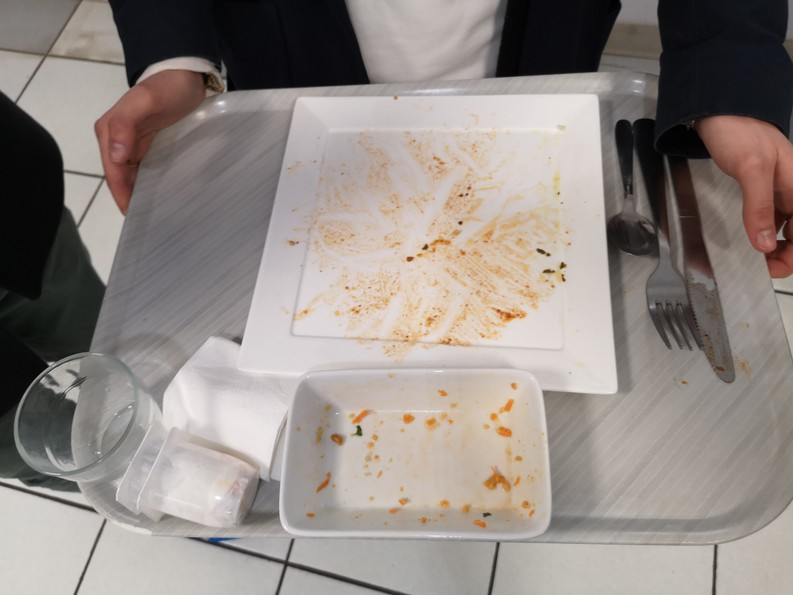cup: (5, 352, 155, 508)
cutlery: (609, 108, 745, 392)
trash: (134, 349, 287, 527)
